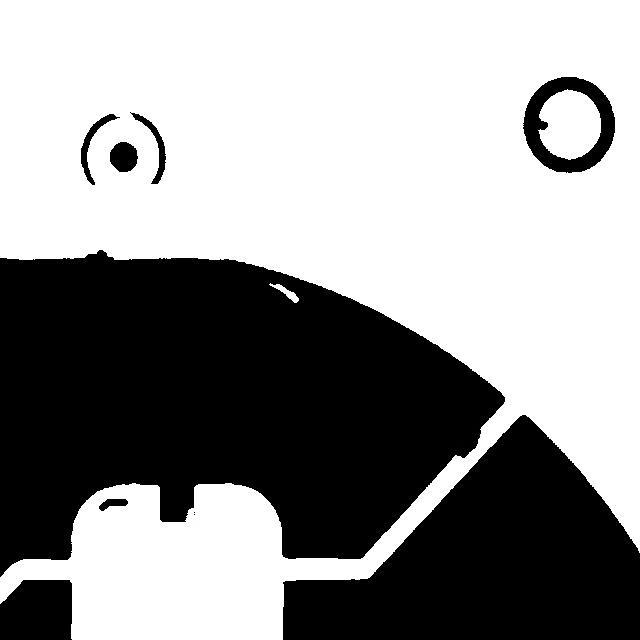copper: (89, 489, 137, 520)
mousebite: (175, 498, 206, 531)
open: (103, 96, 145, 140)
pin-hole: (259, 273, 308, 312)
spur: (444, 419, 490, 467), (75, 240, 123, 271), (525, 108, 557, 142)
